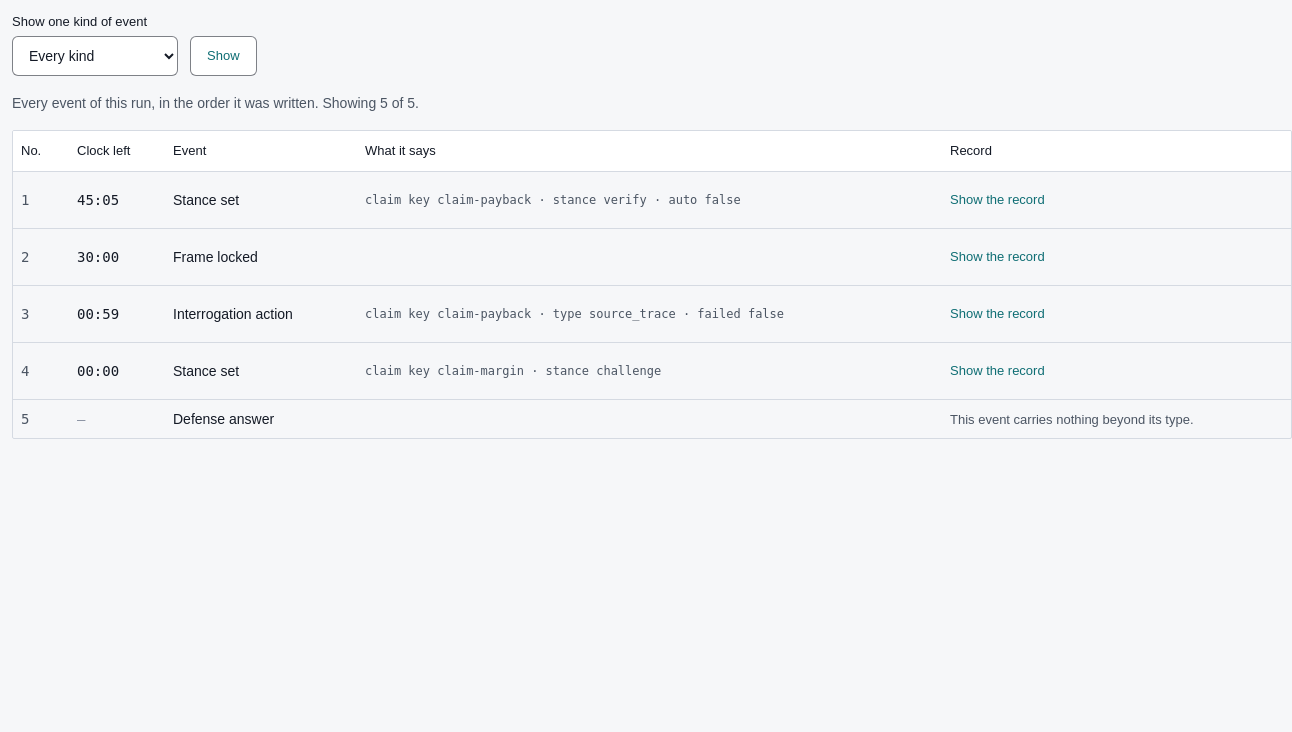
Test: the trace is the run in the order it was written (FR-007, FR-180) › keeps the stored record shut until it is asked for, then shows it unedited
Click the heading "Show the record" in the row of "45:05".
click(997, 199)  # box [950,192,1045,206]
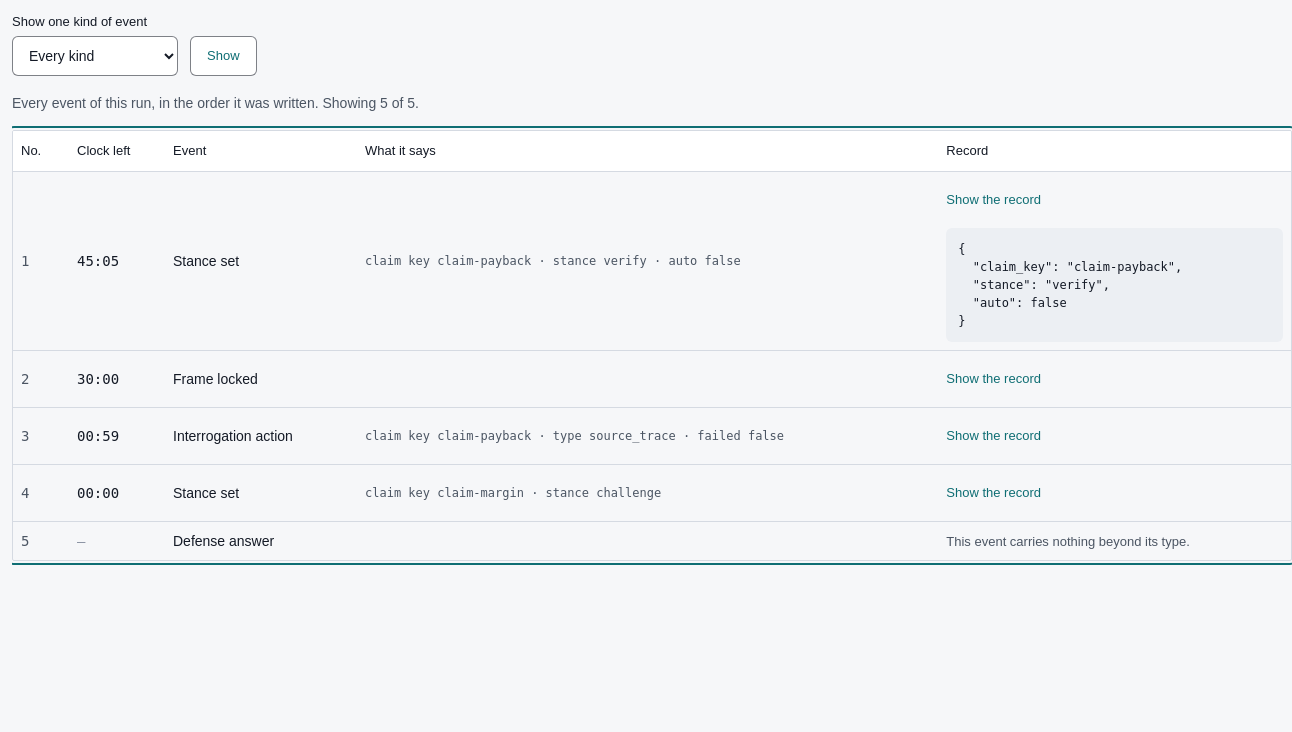
Now the text "\"claim_key\": \"claim-payback\"" is shown, box [958,242,1182,328]
Now the text "\"auto\": false" is shown, box [958,242,1182,328]
